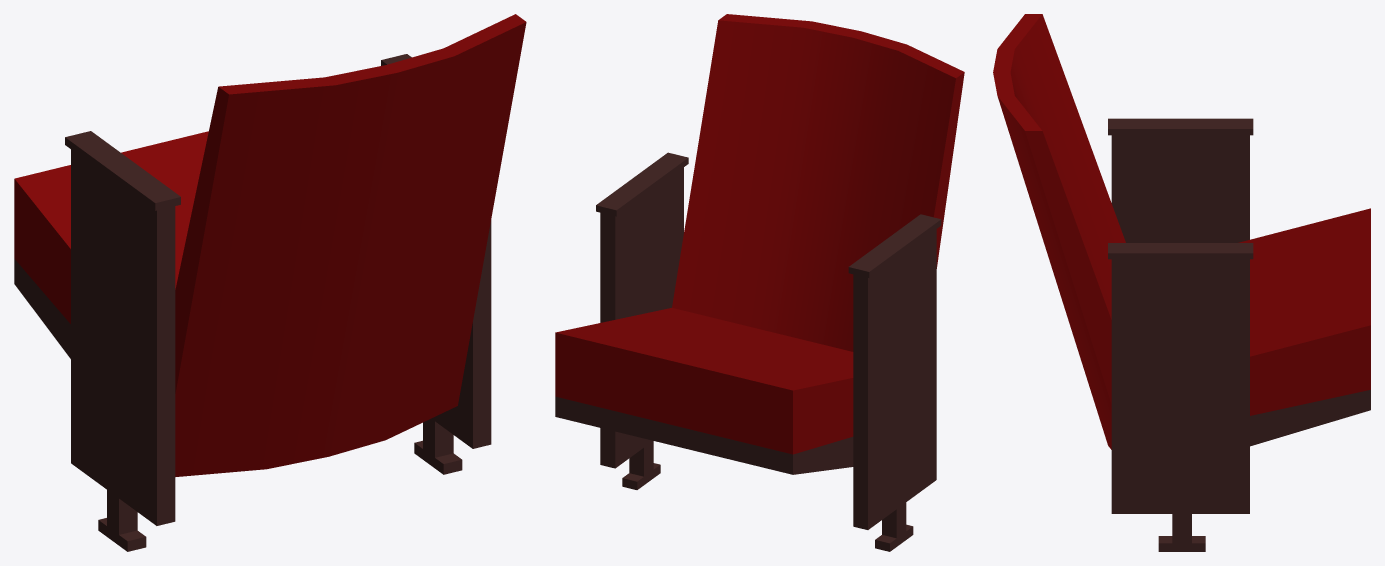
File: CHAIR.FBX
3 renders of one model, left to right at view 1: azimuth 30°, elevation 25°; view 2: azimuth 150°, elevation 25°; view 3: azimuth 270°, elevation 25°, orthographic. The views are drawn at different scales.
Parts seen in each view (by area): view 1: Object357; view 2: Object357; view 3: Object357.
Boxes of the visible parts, x1,y1,x2,y2 form: Object357: [14, 14, 526, 551]; Object357: [555, 14, 964, 551]; Object357: [993, 14, 1370, 551].
Size of the model in its own units: 58.39 by 83.82 by 69.38.
